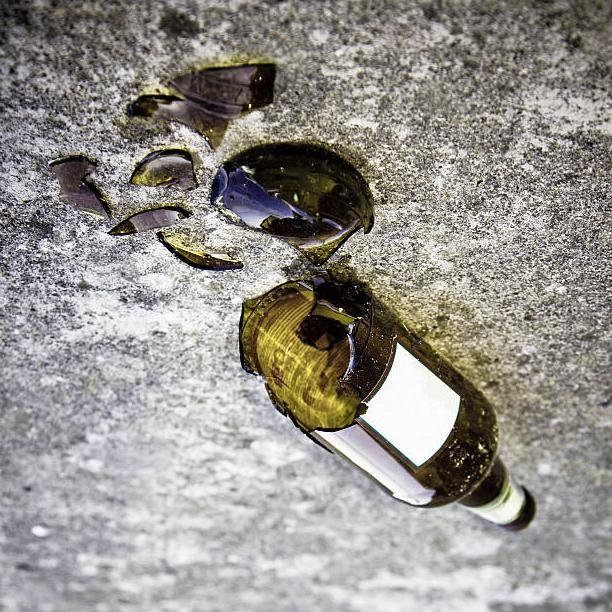Glass: (232, 263, 538, 542)
